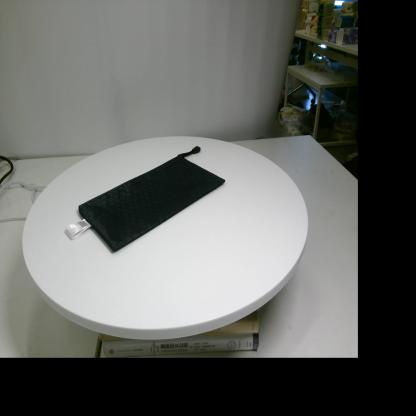Stationery: (65, 146, 225, 252)
